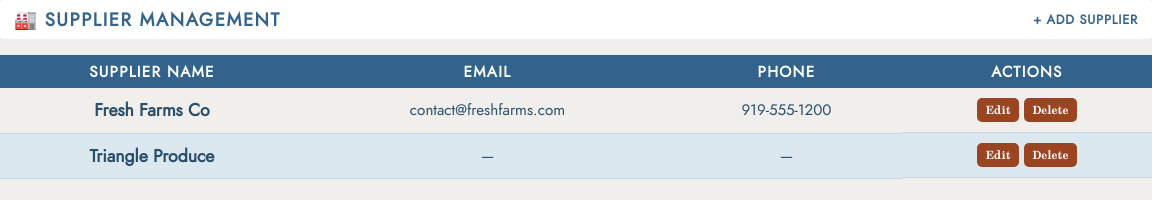
Scenario: AdminSuppliersPage › enters edit mode and cancels
Check: the text "Fresh Farms Co" is shown, box 0,88 -> 304,133
Click the button "Edit" in the row of "Fresh Farms Co": (998, 110) 977,98 -> 1019,122
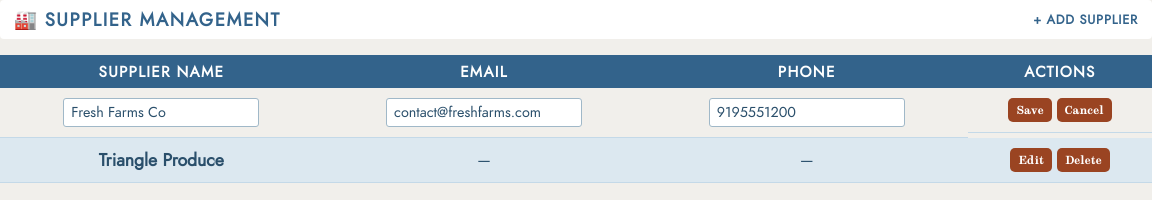
Check: the 1st field showing "Fresh Farms Co" is shown, box 63,98 -> 259,127
Check: the 2nd field showing "contact@freshfarms.com" is shown, box 386,98 -> 582,127
Click the button "Cancel": (1084, 110) 1057,98 -> 1112,122
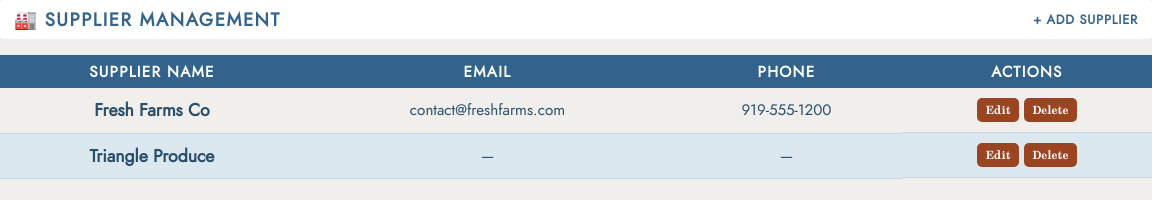
Check: the text "Fresh Farms Co" is shown, box 0,88 -> 304,133
